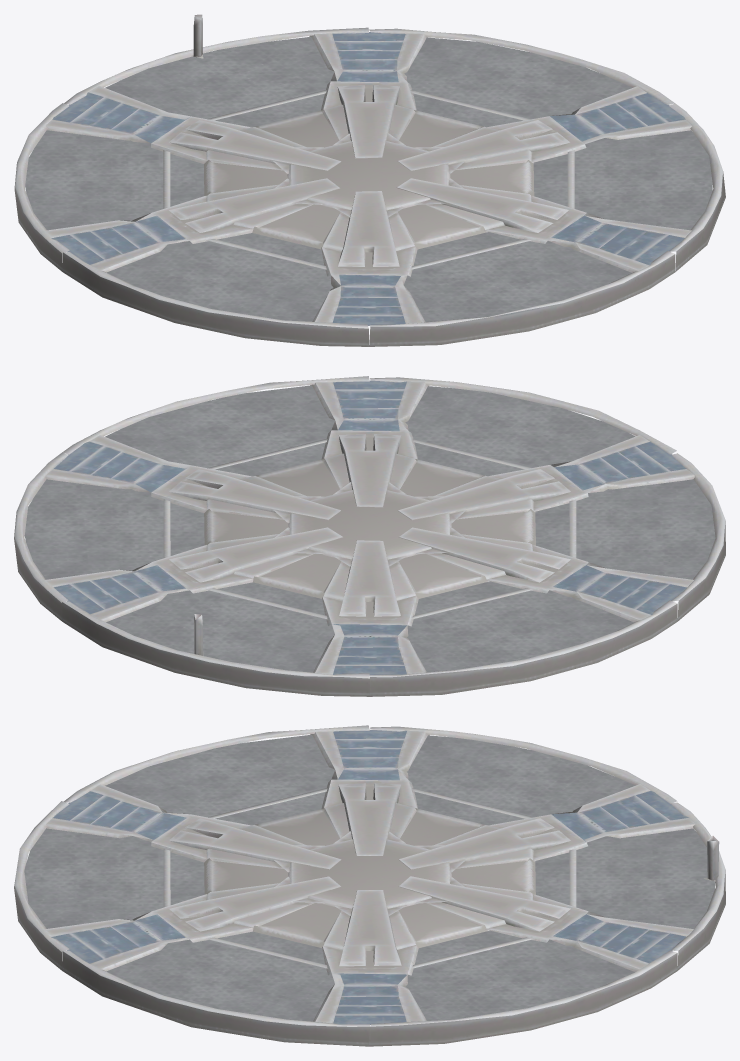
File: TekTeleporterMini_C.glb
3 renders of one model, top to bottom at view 1: azimuth 30°, elevation 25°; view 2: azimuth 150°, elevation 25°; view 3: azimuth 270°, elevation 25°, orthographic.
Parts seen in each view (by area): view 1: SM_TekTeleporter_BIG; view 2: SM_TekTeleporter_BIG; view 3: SM_TekTeleporter_BIG.
Boxes of the visible parts, <box> form: SM_TekTeleporter_BIG: <box>14,14,725,346</box>; SM_TekTeleporter_BIG: <box>14,376,725,696</box>; SM_TekTeleporter_BIG: <box>14,725,725,1046</box>.
Size of the model in its own units: 21.54 by 1.95 by 21.53.
1 material, 1 textured.
